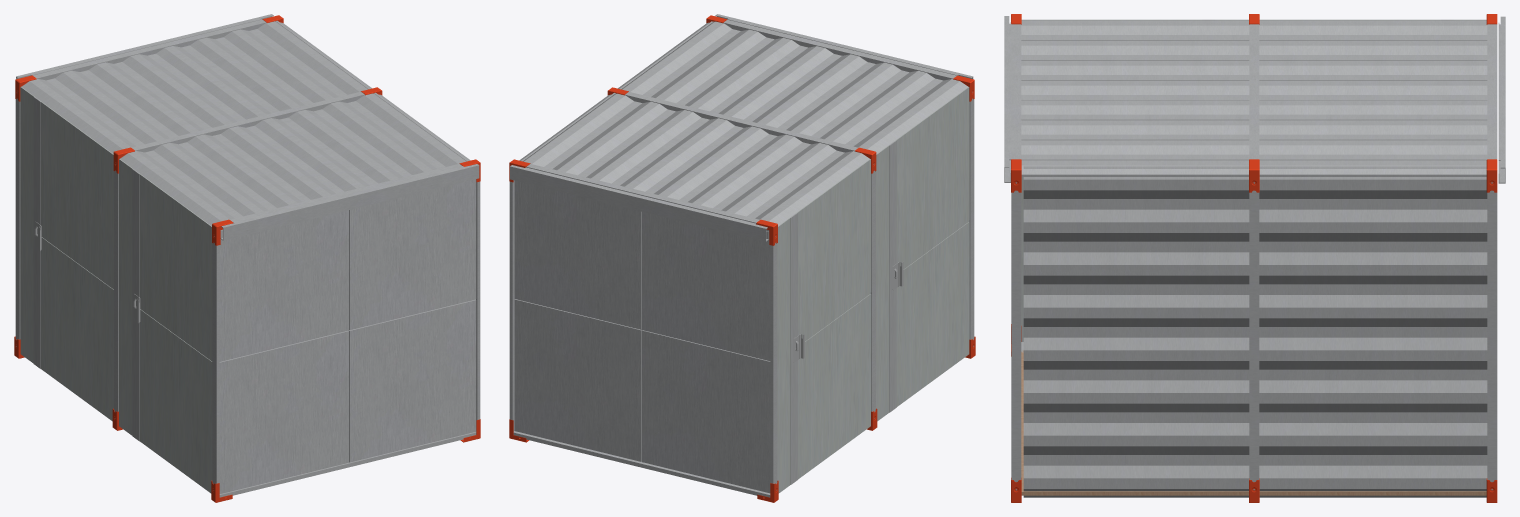
The model's file is 6S2_closed.glb.
The picture shows the model from 3 angles, left to right: view 1: azimuth 30°, elevation 25°; view 2: azimuth 150°, elevation 25°; view 3: azimuth 270°, elevation 25°; orthographic projection. The views are drawn at different scales.
Parts seen in each view (by area): view 1: Cube.001, celing, leftSideOfDoors, leftSideOfDoors.001, frontRim, gutter, corners, gutter.001, back; view 2: Cube, celing, leftSideOfDoors.001, leftSideOfDoors, frontRim, gutter.001, corners, gutter, back; view 3: back, celing, frontRim, floor.002, corners, gutter.001, gutter, leftSideOfDoors.
Boxes of the visible parts, bbox=[...] form: Cube.001: bbox=[219, 179, 476, 493]; celing: bbox=[21, 21, 470, 225]; leftSideOfDoors: bbox=[118, 159, 212, 493]; leftSideOfDoors.001: bbox=[20, 87, 113, 421]; frontRim: bbox=[15, 19, 480, 497]; gutter: bbox=[220, 164, 479, 240]; corners: bbox=[14, 15, 480, 502]; gutter.001: bbox=[16, 14, 273, 79]; back: bbox=[275, 20, 468, 161]; Cube: bbox=[514, 180, 770, 493]; celing: bbox=[519, 21, 968, 225]; leftSideOfDoors.001: bbox=[777, 159, 871, 493]; leftSideOfDoors: bbox=[876, 87, 969, 421]; frontRim: bbox=[509, 19, 974, 497]; gutter.001: bbox=[510, 165, 768, 241]; corners: bbox=[509, 15, 975, 502]; gutter: bbox=[715, 14, 973, 78]; back: bbox=[521, 21, 713, 161]; back: bbox=[1023, 165, 1487, 497]; celing: bbox=[1021, 20, 1487, 176]; frontRim: bbox=[1011, 24, 1497, 490]; floor.002: bbox=[1021, 350, 1486, 495]; corners: bbox=[1011, 14, 1497, 502]; gutter.001: bbox=[1498, 16, 1505, 183]; gutter: bbox=[1004, 16, 1011, 182]; leftSideOfDoors: bbox=[1021, 19, 1248, 341].
Size of the model in its own units: 23.38 by 23.06 by 31.39.
12 materials, 11 textured.
